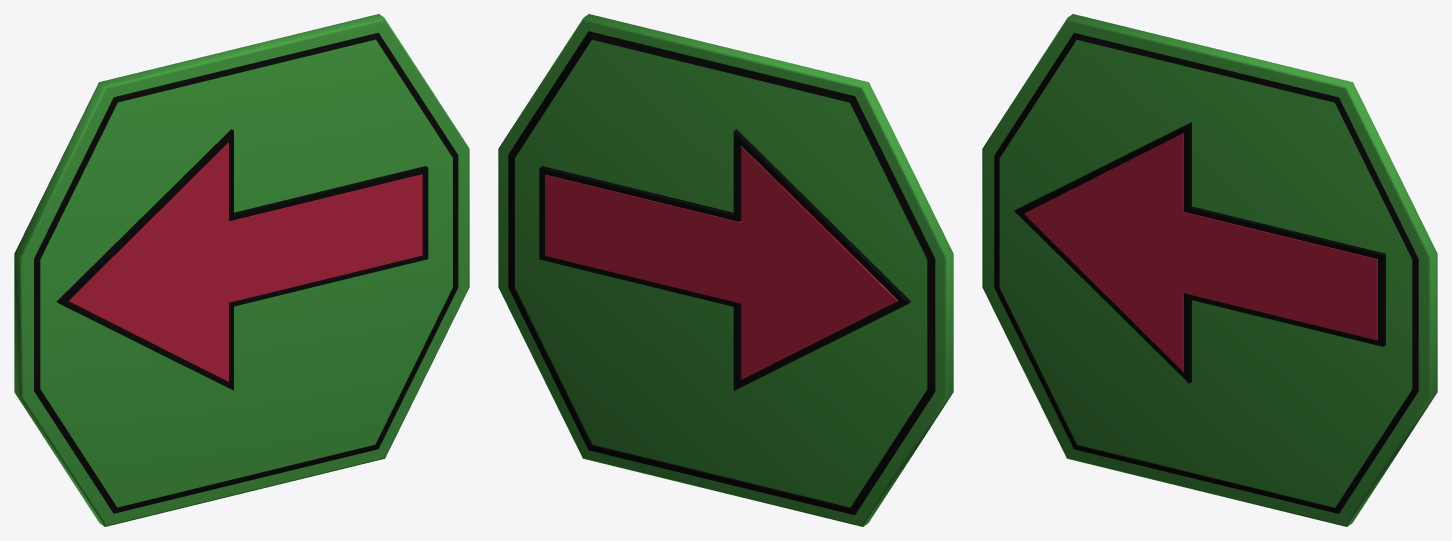
The model's file is Hexagon_LeftArrow.fbx.
3 renders of one model, left to right at view 1: azimuth 30°, elevation 25°; view 2: azimuth 150°, elevation 25°; view 3: azimuth 330°, elevation 25°, orthographic.
Parts seen in each view (by area): view 1: outer_HexagonLeft; view 2: outer_HexagonLeft; view 3: outer_HexagonLeft.
Part boxes in pixels (x1,y1,x2,y2): outer_HexagonLeft: (14, 14, 469, 526); outer_HexagonLeft: (498, 14, 953, 526); outer_HexagonLeft: (982, 14, 1437, 526).
Bounding box in the file's own units: 151 × 142 × 7.94.
4 materials, 4 textured.
